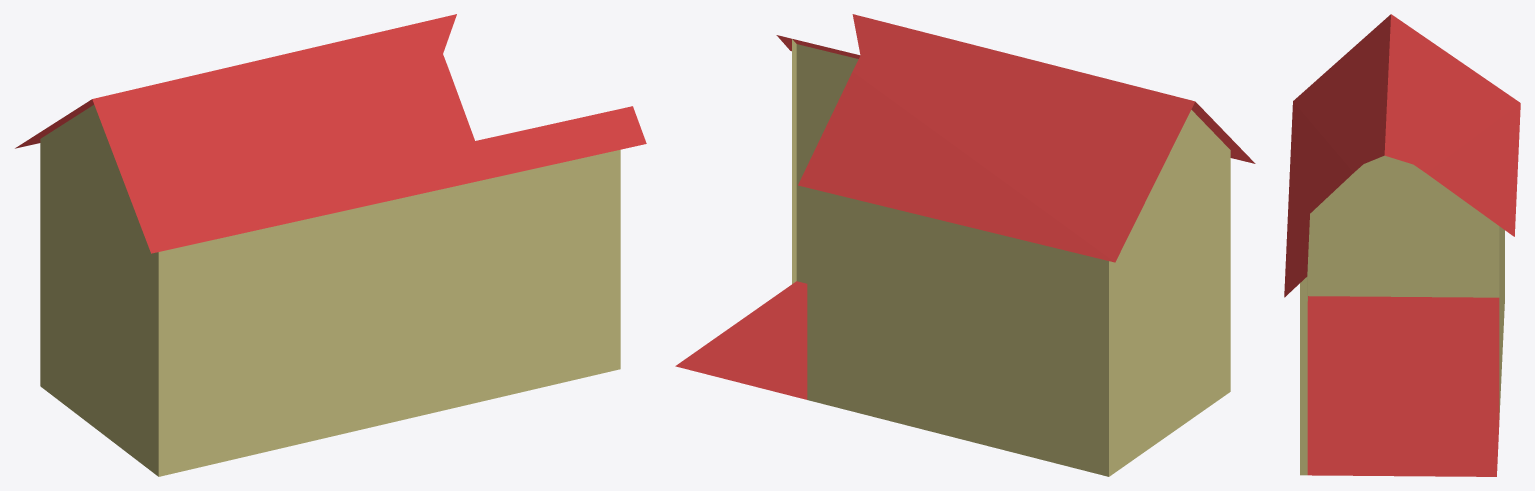
3 views of the same model, side by side, from view 1: azimuth 30°, elevation 25°; view 2: azimuth 150°, elevation 25°; view 3: azimuth 270°, elevation 25° (orthographic). The views are drawn at different scales.
Bounding box in the file's own units: 14.78 × 7.68 × 9.9.
